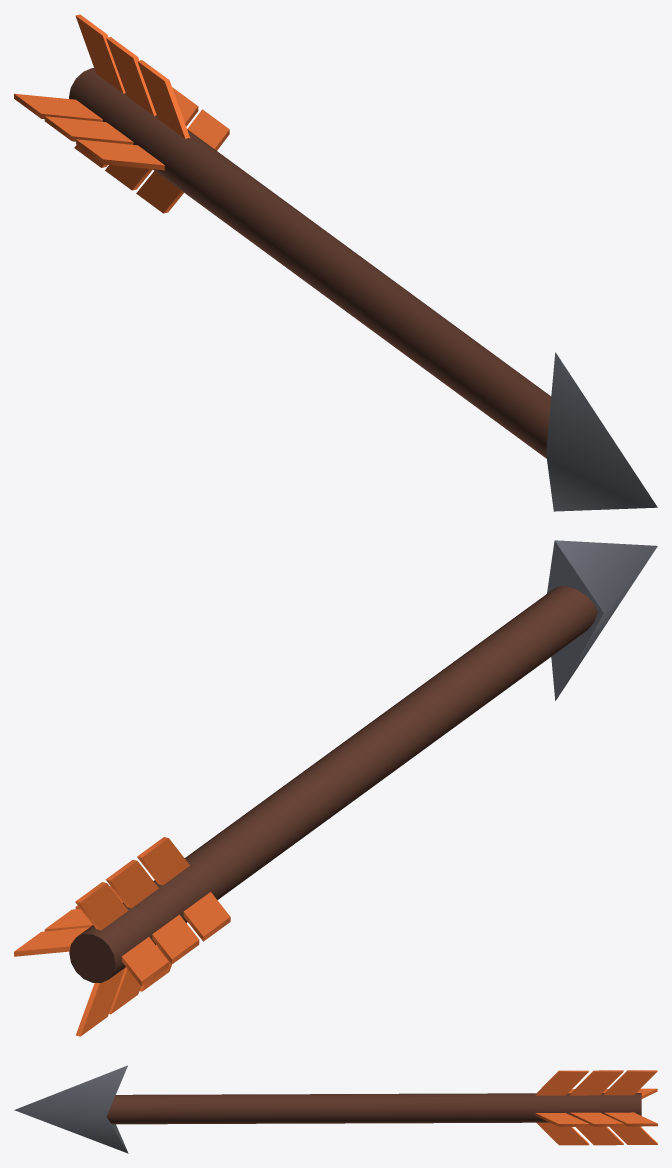
Rendered from Arrow.fbx.
3 renders of one model, top to bottom at view 1: azimuth 30°, elevation 25°; view 2: azimuth 150°, elevation 25°; view 3: azimuth 270°, elevation 25°, orthographic. The views are drawn at different scales.
Parts seen in each view (by area): view 1: DemonArcher.001; view 2: DemonArcher.001; view 3: DemonArcher.001.
Part boxes in pixels (<box>): DemonArcher.001: <box>14,14,657,511</box>; DemonArcher.001: <box>14,540,657,1036</box>; DemonArcher.001: <box>14,1065,657,1153</box>.
Bounding box in the file's own units: 7.88 × 9.47 × 62.16.
